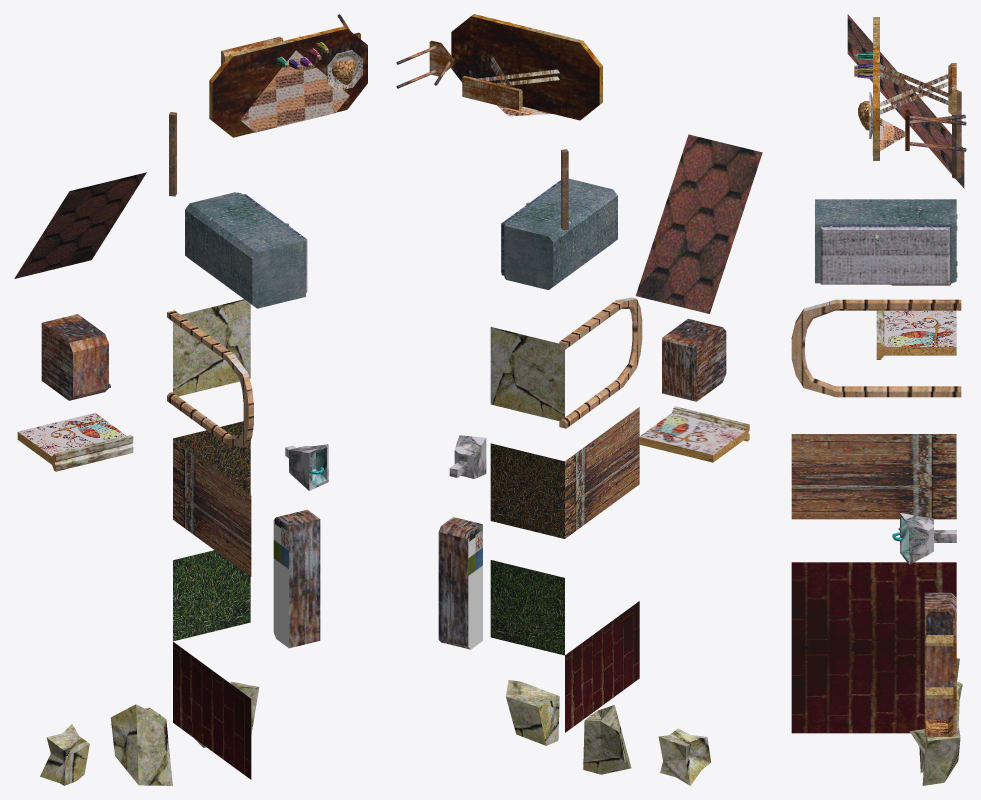
The model's file is Staf Models 2.fbx.
The picture shows the model from 3 angles, left to right: view 1: azimuth 30°, elevation 25°; view 2: azimuth 150°, elevation 25°; view 3: azimuth 270°, elevation 25°; orthographic projection. The views are drawn at different scales.
Visible parts, largest first — view 1: Куб.005, Куб.004, Wall 7 Fence, Wall 6 House 2, MiniStand, roof, FloorGrass 1, FloorGrass 3, Body, Плоскость.001, MiniWall, Stone 2 (+6 smaller); view 2: roof, Куб.004, Куб.005, Wall 6 House 2, FloorGrass 2, FloorGrass 1, Wall 7 Fence, FloorGrass 3, MiniStand, Body, MiniWall, Stone 1 (+6 smaller); view 3: Wall 7 Fence, Wall 6 House 1, Wall 6 House 2, Куб.006, Arch, MiniStand, Куб.005, MiniWall, roof, Куб.004, Stone 1, Куб.010 (+3 smaller).
Boxes of the visible parts, box(x1,y1,x2,y2) form: Куб.005: box(185, 192, 305, 308); Куб.004: box(209, 26, 367, 137); Wall 7 Fence: box(173, 439, 251, 576); Wall 6 House 2: box(173, 642, 251, 779); MiniStand: box(273, 509, 320, 648); roof: box(14, 172, 146, 278); FloorGrass 1: box(173, 550, 250, 641); FloorGrass 3: box(173, 299, 250, 396); Body: box(41, 314, 108, 400); Плоскость.001: box(240, 50, 349, 132); MiniWall: box(17, 413, 133, 471); Stone 2: box(110, 704, 172, 785); roof: box(635, 134, 762, 313); Куб.004: box(451, 14, 602, 120); Куб.005: box(504, 178, 617, 289); Wall 6 House 2: box(565, 601, 639, 732); FloorGrass 2: box(490, 443, 564, 538); FloorGrass 1: box(490, 560, 564, 655); Wall 7 Fence: box(565, 407, 639, 538); FloorGrass 3: box(490, 327, 564, 421); MiniStand: box(438, 517, 482, 649); Body: box(662, 319, 726, 401); MiniWall: box(639, 406, 749, 462); Stone 1: box(505, 680, 559, 745); Wall 7 Fence: box(791, 434, 956, 519); Wall 6 House 1: box(791, 562, 956, 647); Wall 6 House 2: box(791, 647, 924, 733); Куб.006: box(820, 225, 949, 284); Arch: box(791, 299, 961, 397); MiniStand: box(924, 592, 956, 736); Куб.005: box(815, 199, 956, 283); MiniWall: box(876, 310, 956, 359); roof: box(847, 14, 964, 188); Куб.004: box(873, 17, 956, 160); Stone 1: box(909, 724, 960, 785); Куб.010: box(900, 513, 956, 564).
Bounding box in the file's own units: 8.44 × 18.15 × 3.71.
